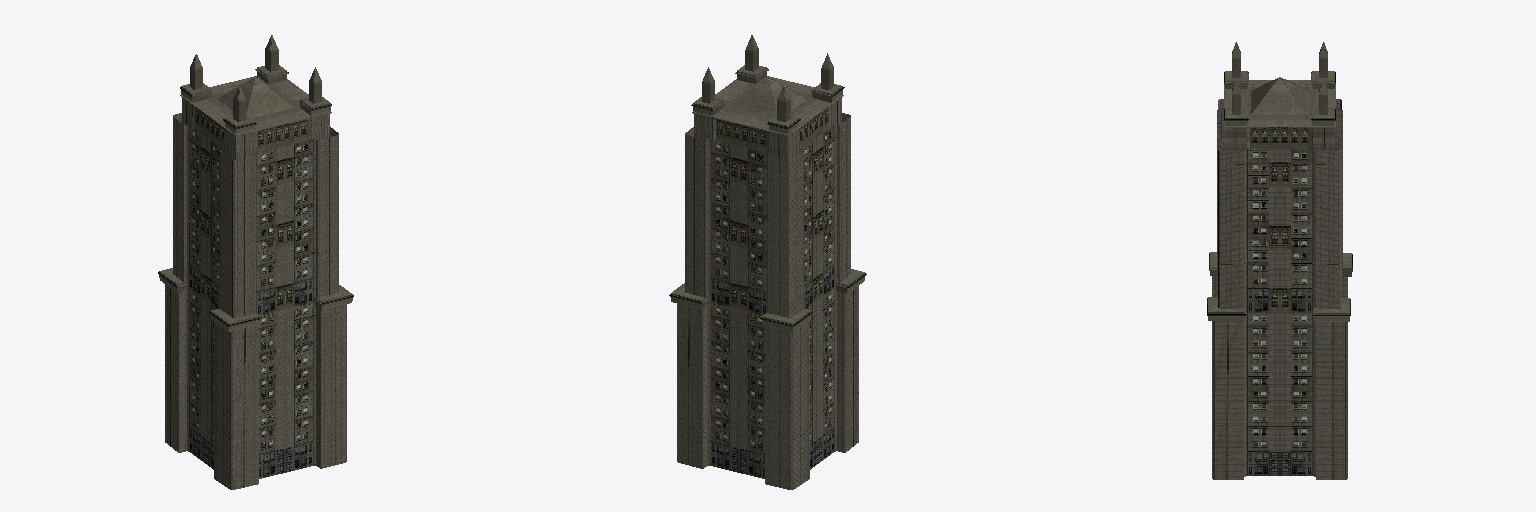
3 renders of one model, left to right at view 1: azimuth 30°, elevation 25°; view 2: azimuth 150°, elevation 25°; view 3: azimuth 270°, elevation 25°, orthographic.
Parts seen in each view (by area): view 1: 7_Gotham-Skyline-BuildingBlock05; view 2: 7_Gotham-Skyline-BuildingBlock05; view 3: 7_Gotham-Skyline-BuildingBlock05.
Boxes of the visible parts, x1,y1,x2,y2 form: 7_Gotham-Skyline-BuildingBlock05: [158, 35, 353, 489]; 7_Gotham-Skyline-BuildingBlock05: [669, 35, 866, 489]; 7_Gotham-Skyline-BuildingBlock05: [1207, 42, 1352, 479].
Size of the model in its own units: 11752 by 34677 by 11752.
1 materials, 1 textured.